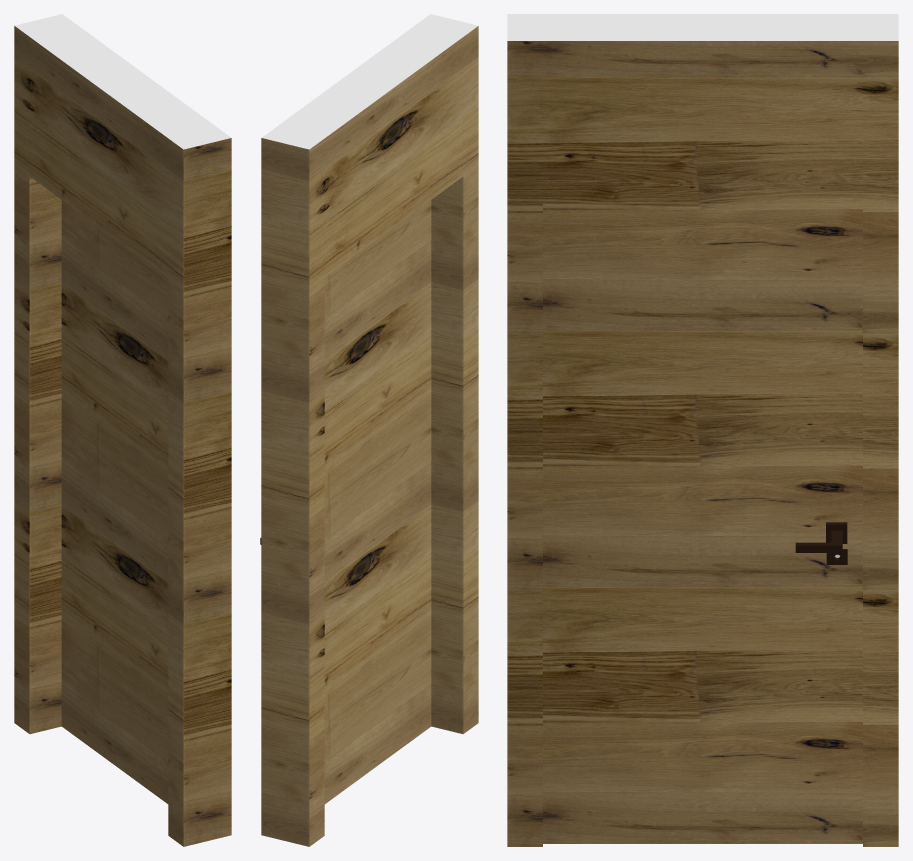
The model's file is tuer.dae.
3 renders of one model, left to right at view 1: azimuth 30°, elevation 25°; view 2: azimuth 150°, elevation 25°; view 3: azimuth 270°, elevation 25°, orthographic. The views are drawn at different scales.
Visible parts, largest first — view 1: SketchUp (×2); view 2: SketchUp (×2); view 3: SketchUp (×2).
Boxes of the visible parts, box(x1,y1,x2,y2) form: SketchUp (×2): box(14, 14, 231, 846); SketchUp (×2): box(261, 14, 478, 846); SketchUp (×2): box(507, 14, 898, 846).
Size of the model in its own units: 10.83 by 43.31 by 98.43.
3 materials, 1 textured.
